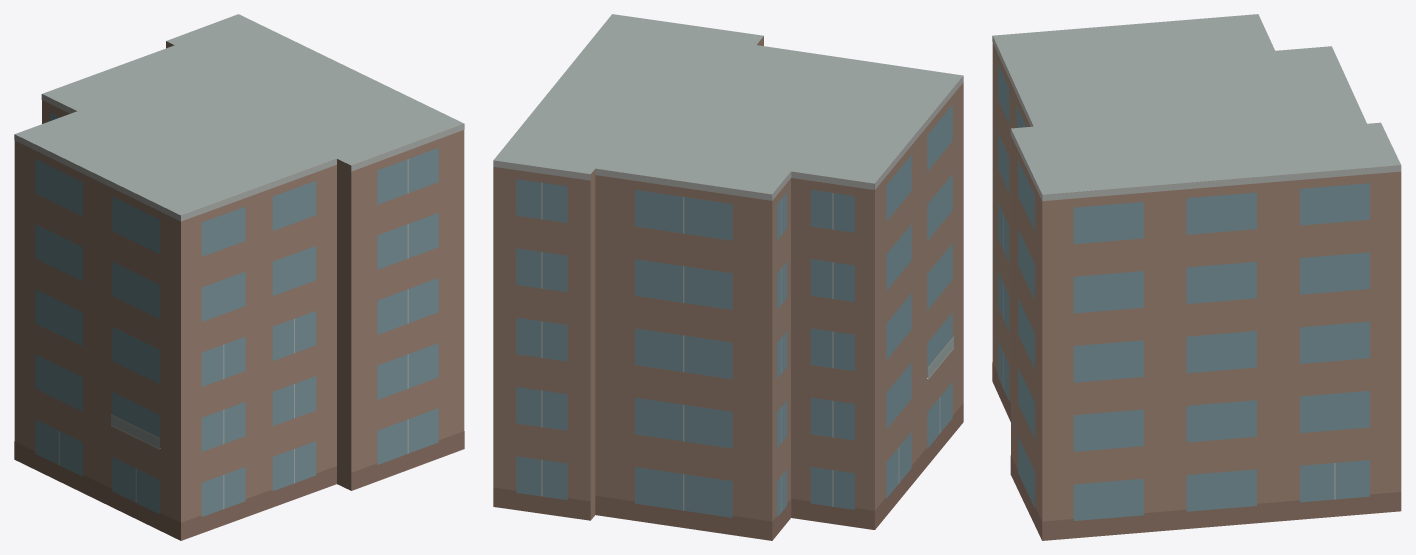
Rendered from survey-upis-32967110.glb.
3 renders of one model, left to right at view 1: azimuth 30°, elevation 25°; view 2: azimuth 150°, elevation 25°; view 3: azimuth 270°, elevation 25°, orthographic. The views are drawn at different scales.
Visible parts, largest first — view 1: survey-upis-32967110.tmp; view 2: survey-upis-32967110.tmp; view 3: survey-upis-32967110.tmp.
Boxes of the visible parts, x1,y1,x2,y2 form: survey-upis-32967110.tmp: (14, 14, 464, 540); survey-upis-32967110.tmp: (493, 14, 963, 540); survey-upis-32967110.tmp: (992, 14, 1401, 540).
Bounding box in the file's own units: 14.8 × 13.2 × 14.14.
